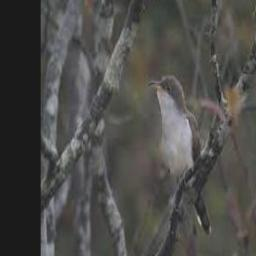Cuckoo: (147, 75, 213, 237)
